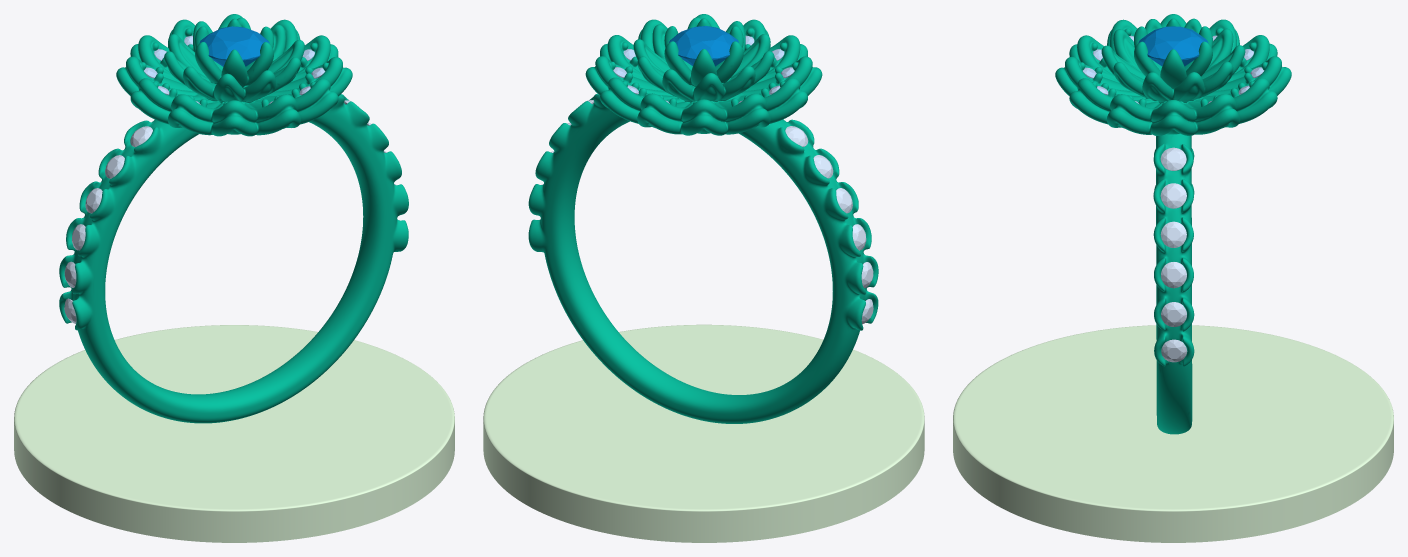
3 views of the same model, side by side, from view 1: azimuth 30°, elevation 25°; view 2: azimuth 150°, elevation 25°; view 3: azimuth 270°, elevation 25° (orthographic).
Parts seen in each view (by area): view 1: Flower Engagement Ring.3dm, Diamond_Round; view 2: Flower Engagement Ring.3dm, Diamond_Round; view 3: Flower Engagement Ring.3dm, GemOnCrv (×4), Diamond_Round.
Part boxes in pixels (left/top/right/bottom): Flower Engagement Ring.3dm: left=14, top=14, right=454, bottom=542; Diamond_Round: left=199, top=26, right=269, bottom=66; Flower Engagement Ring.3dm: left=483, top=14, right=924, bottom=542; Diamond_Round: left=669, top=26, right=738, bottom=66; Flower Engagement Ring.3dm: left=953, top=14, right=1393, bottom=542; GemOnCrv (×4): left=1160, top=183, right=1186, bottom=326; Diamond_Round: left=1138, top=26, right=1208, bottom=66.
Bounding box in the file's own units: 2.28 × 2.37 × 2.28.
